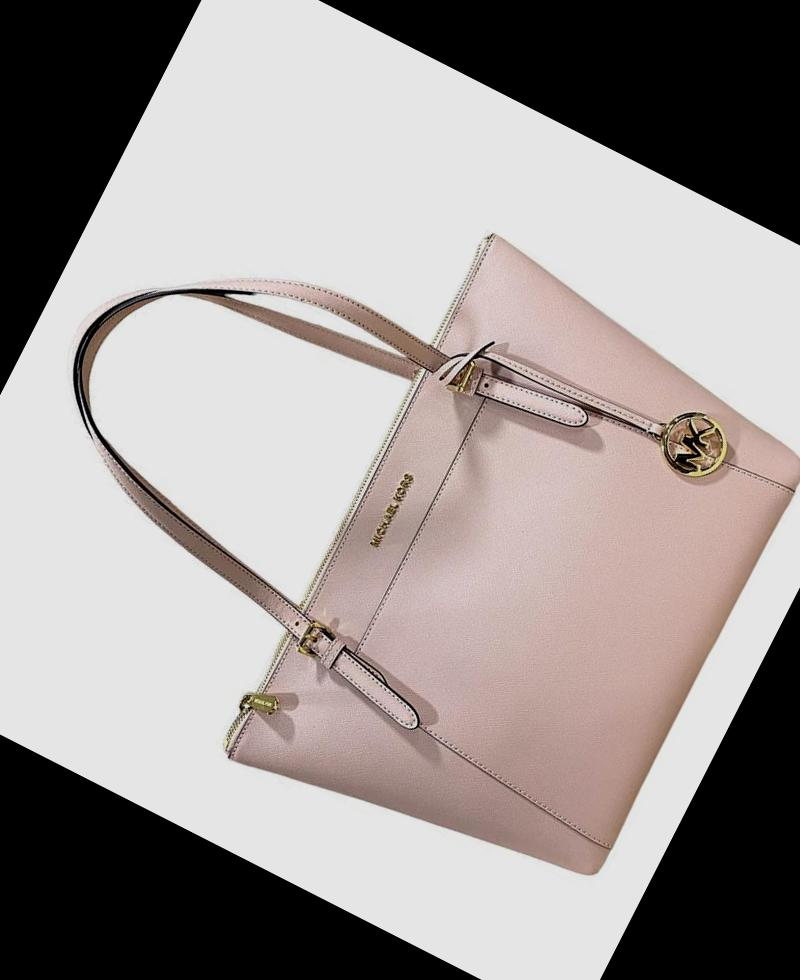MICHAEL-KORS: (369, 471, 415, 548)
